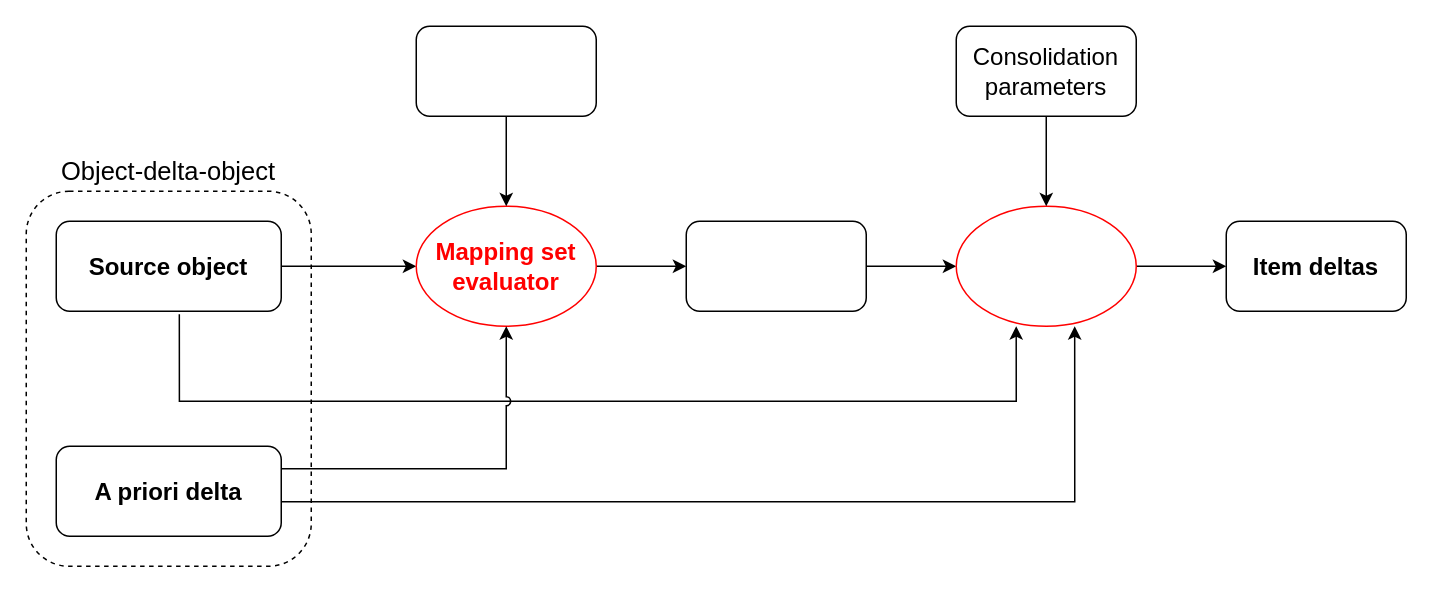
Image size: 1433x593. Some labels were removed from this diagram. Each missing label, with the centre of its shape:
"Consolidator" belongs at (x=1045, y=265).
"Evaluation parameters" belongs at (x=505, y=70).
"Output triple map" belongs at (x=775, y=265).
